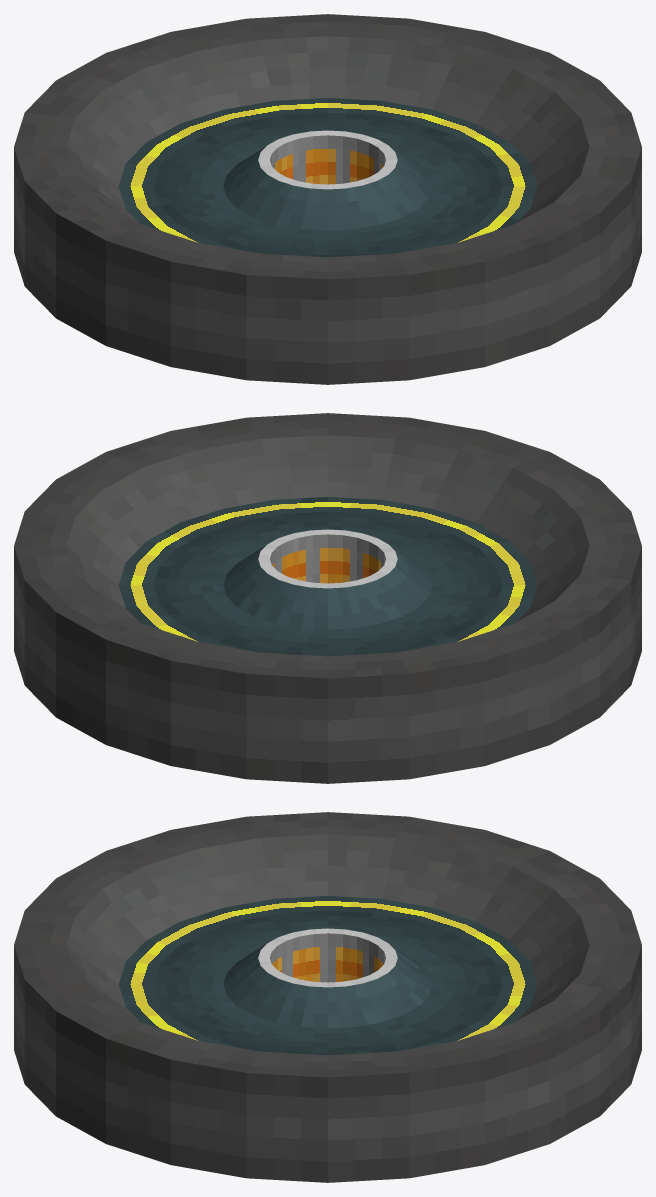
File: flying_wheel_2.obj
The picture shows the model from 3 angles, top to bottom: view 1: azimuth 30°, elevation 25°; view 2: azimuth 150°, elevation 25°; view 3: azimuth 270°, elevation 25°; orthographic projection.
Visible parts, largest first — view 1: flywheel; view 2: flywheel; view 3: flywheel.
Boxes of the visible parts, x1,y1,x2,y2 form: flywheel: (14,14,641,384); flywheel: (14,413,641,783); flywheel: (14,812,641,1182).
Bounding box in the file's own units: 2.7 × 0.5 × 2.7.
